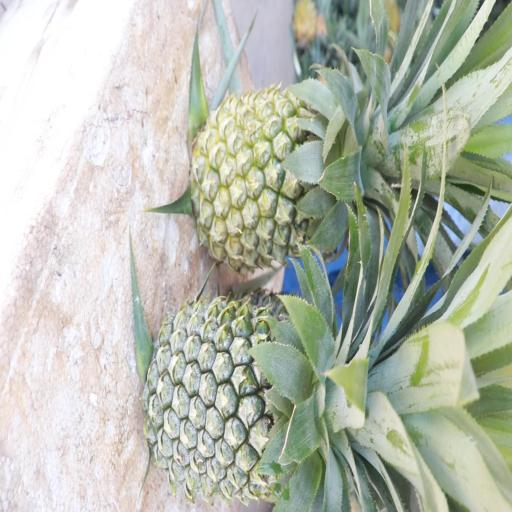Pineapple - v8 v1: (192, 75, 385, 267)
